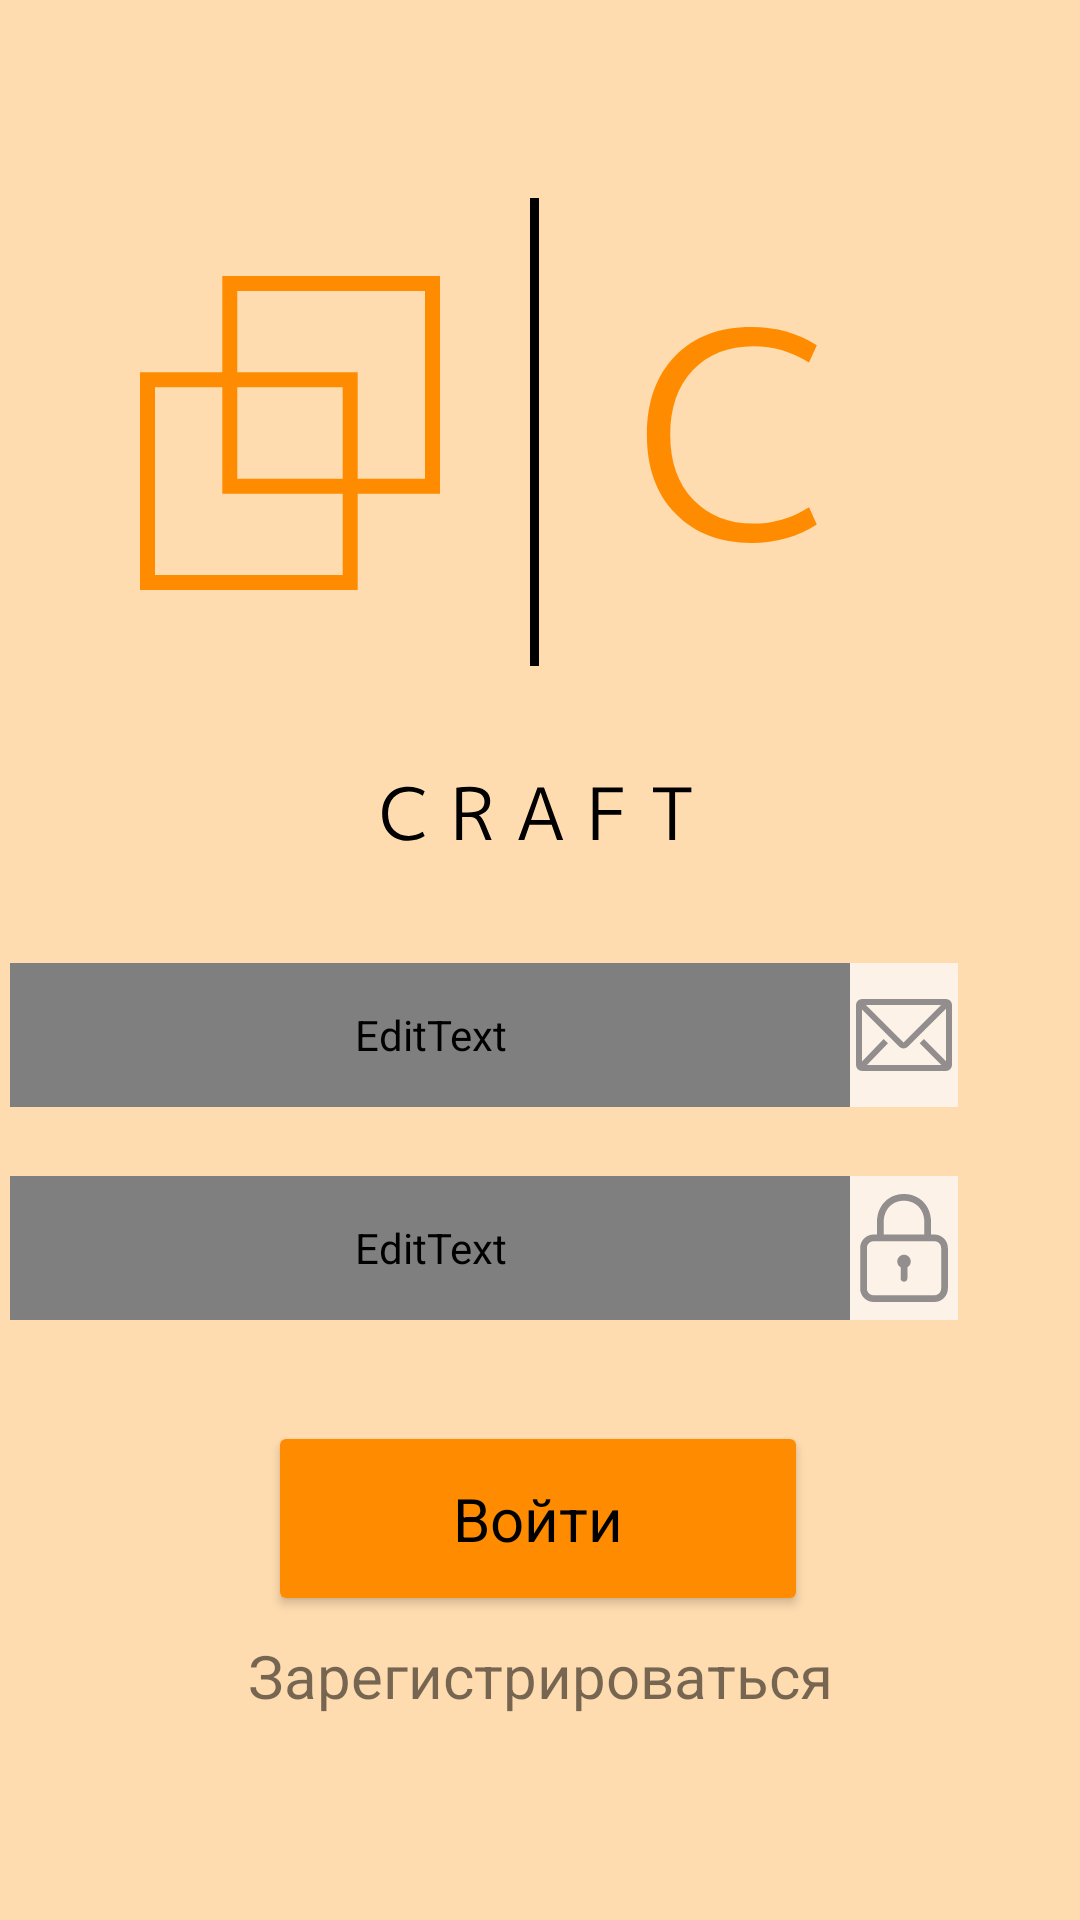

Where icons sit on this 1080*1920 app screen, as box(x1, y1, x2, y2):
lock: box(850, 1176, 958, 1320)
